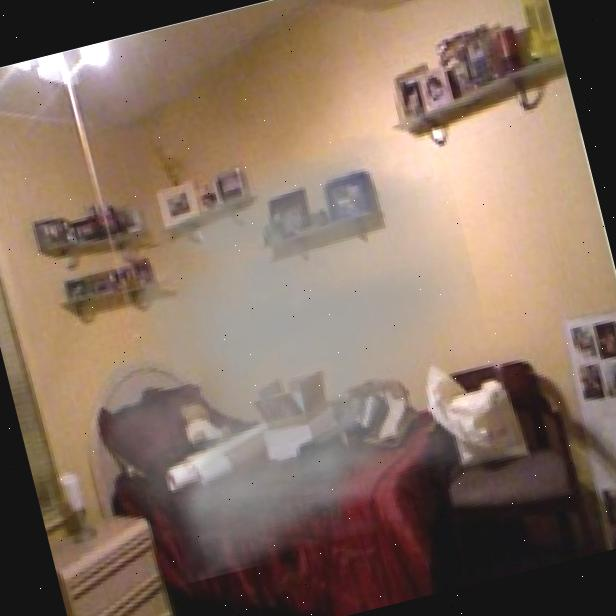smoke: (22, 116, 530, 601)
